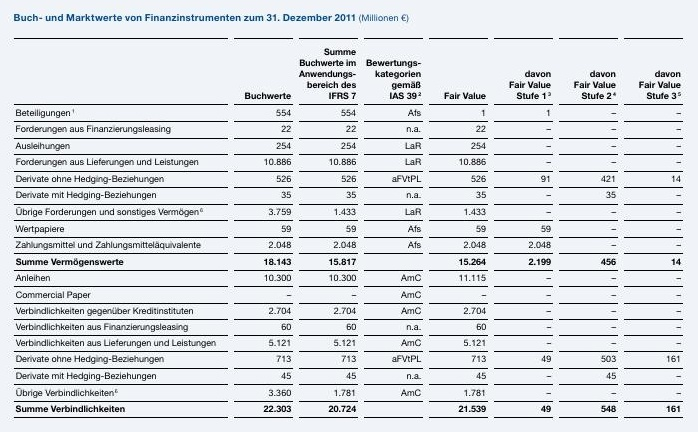table: (0, 0, 698, 432)
